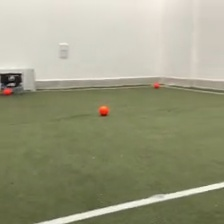ball: (98, 104, 109, 116), (152, 80, 160, 88), (3, 87, 11, 95)
goal: (1, 67, 36, 94)
robot: (1, 71, 24, 94)
